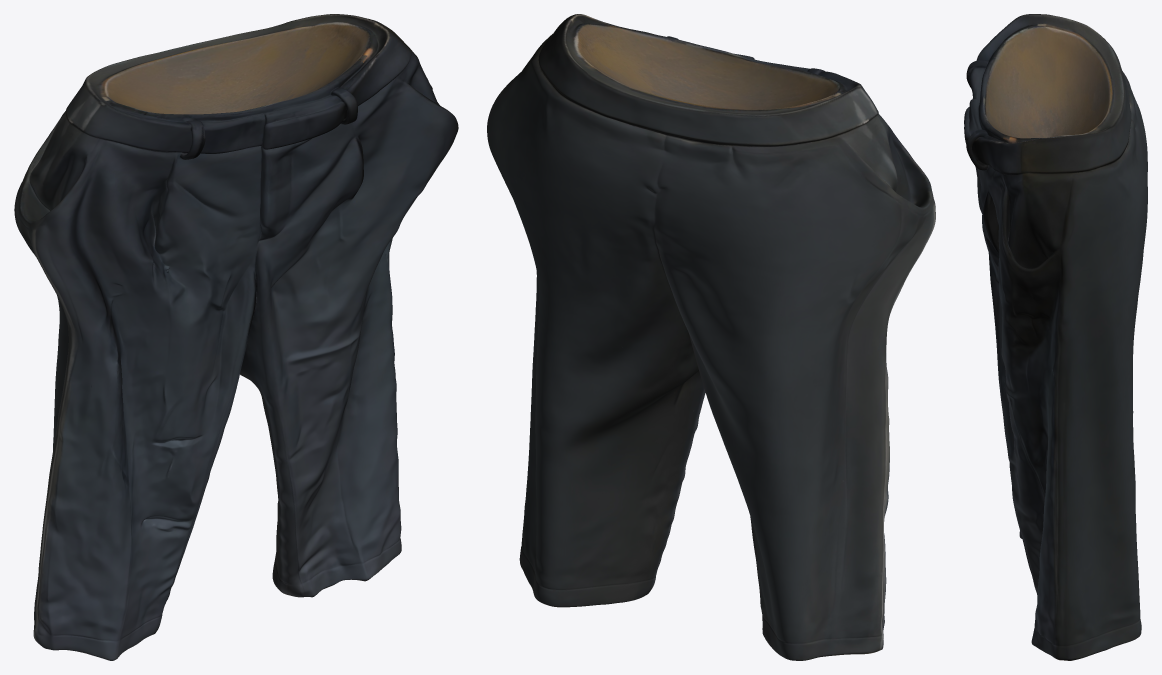
File: autumn_boy_bottom_03.glb
The picture shows the model from 3 angles, left to right: view 1: azimuth 30°, elevation 25°; view 2: azimuth 150°, elevation 25°; view 3: azimuth 270°, elevation 25°; orthographic projection. The views are drawn at different scales.
Parts seen in each view (by area): view 1: tripo_node_72e1c58a-d066-470a-aeef-24ba5d64c9d0; view 2: tripo_node_72e1c58a-d066-470a-aeef-24ba5d64c9d0; view 3: tripo_node_72e1c58a-d066-470a-aeef-24ba5d64c9d0.
Part boxes in pixels (x1,y1,x2,y2): tripo_node_72e1c58a-d066-470a-aeef-24ba5d64c9d0: (14, 14, 458, 660); tripo_node_72e1c58a-d066-470a-aeef-24ba5d64c9d0: (487, 14, 935, 660); tripo_node_72e1c58a-d066-470a-aeef-24ba5d64c9d0: (964, 14, 1147, 660).
Bounding box in the file's own units: 0.794 × 1 × 0.3178.
1 material, 1 textured.
